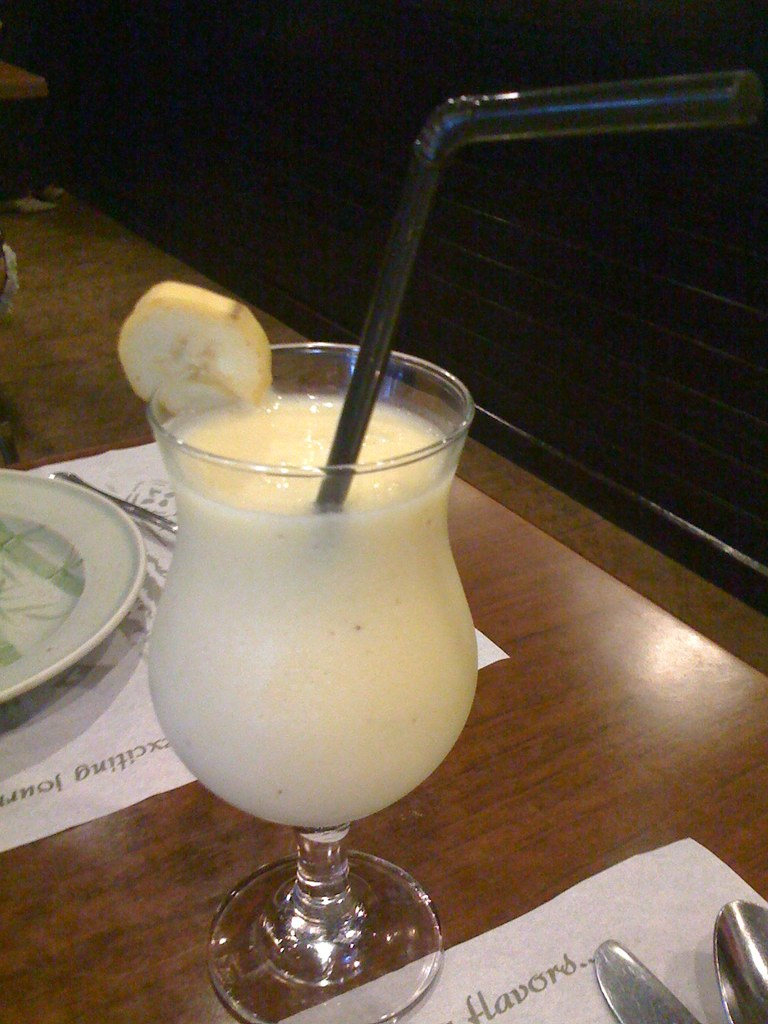plate: (0, 472, 144, 694)
